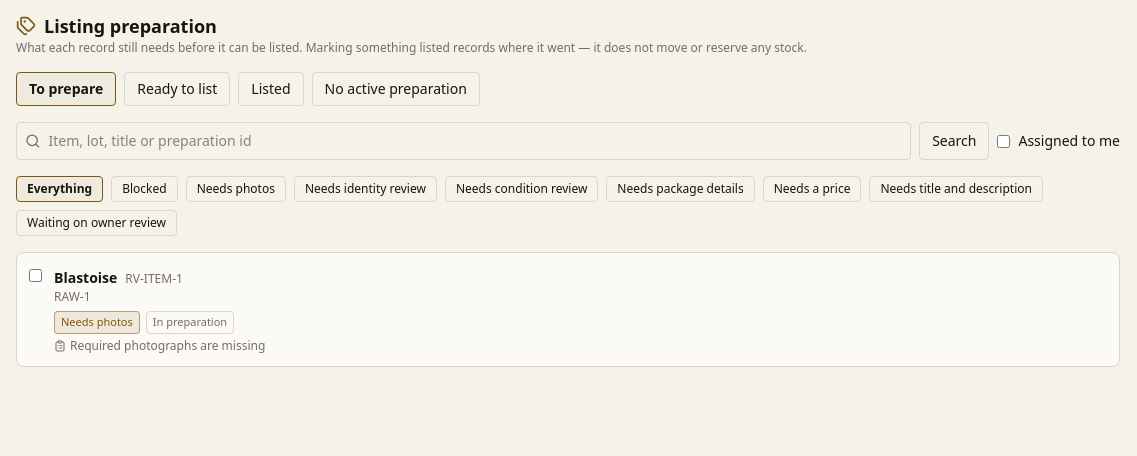
Test: listing prep queue › reports the records a bulk action could not change
The width and height of the screenshot is (1137, 456).
Click the checkbox named "Select Blastoise".
click(36, 276)  # box [29,269,42,282]
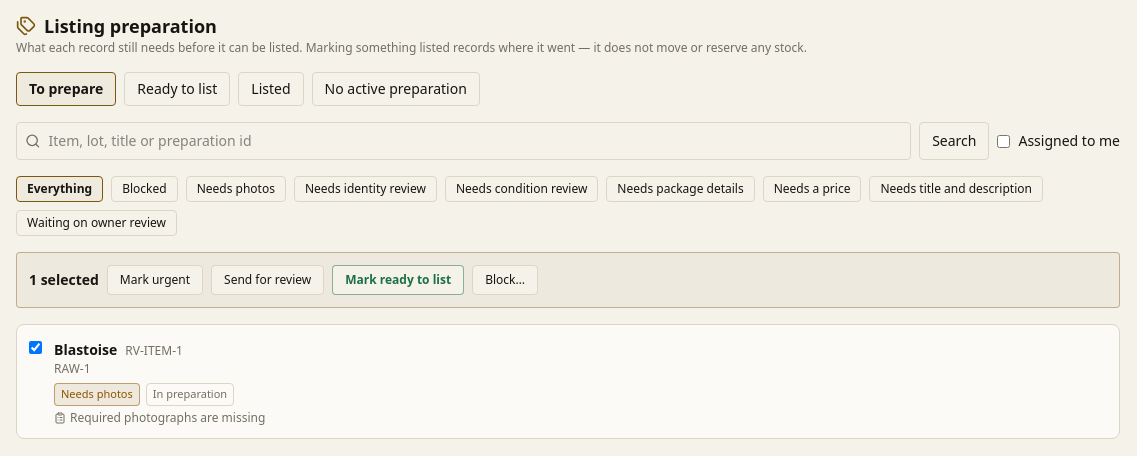
Click the button "Mark ready to list".
click(398, 280)  # box [332,265,464,295]
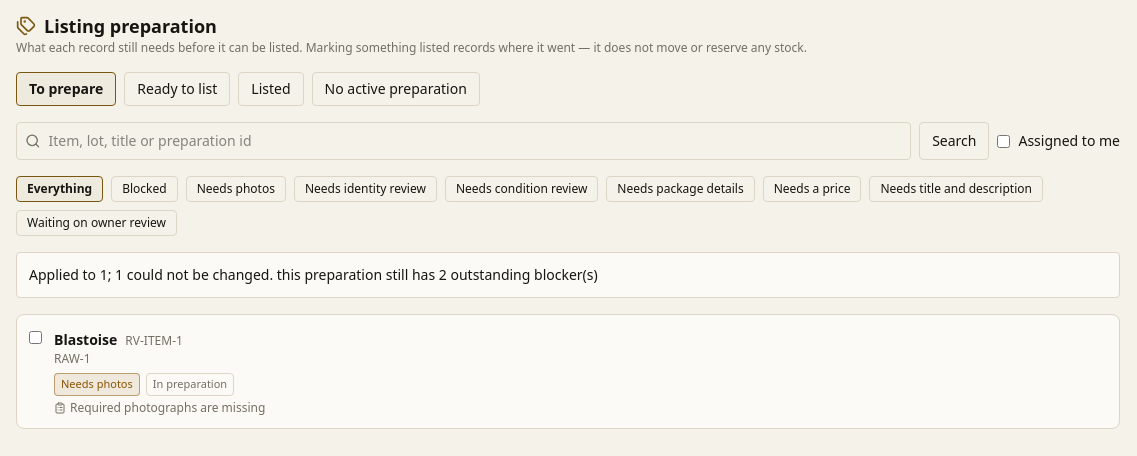
Check: the message is shown, box [16,252,1120,298]
Check: the text "1 could not be changed" is shown, box [29,265,598,284]
